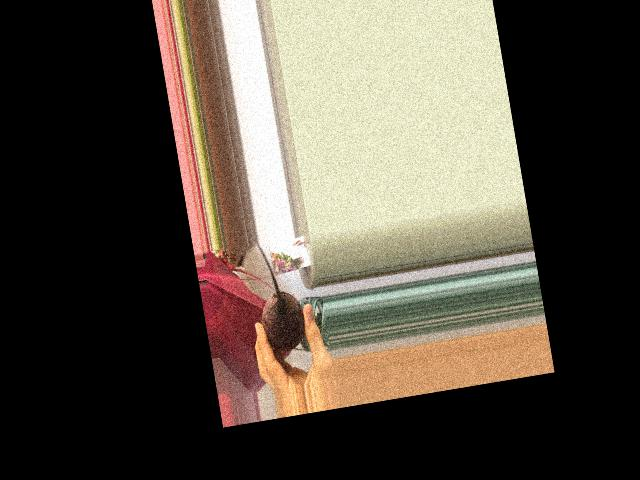beet: (248, 236, 309, 355)
